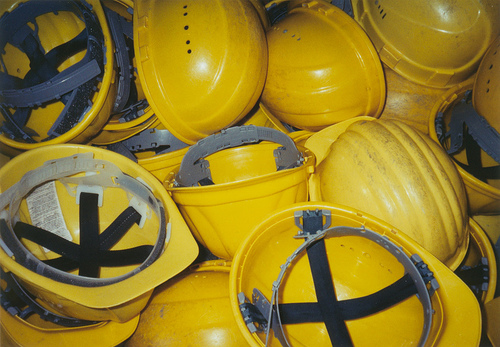helmet: (311, 129, 477, 262), (133, 1, 269, 127)
